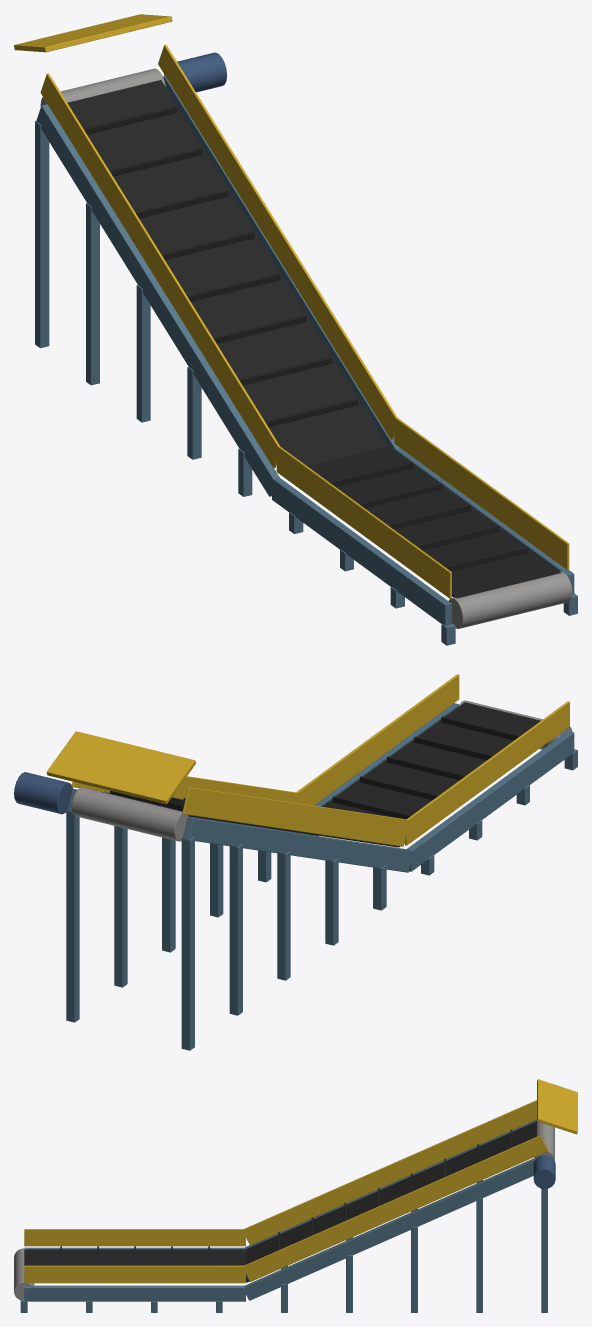
Rendered from bark_belt.glb.
3 views of the same model, one above another, from view 1: azimuth 30°, elevation 25°; view 2: azimuth 150°, elevation 25°; view 3: azimuth 270°, elevation 25° (orthographic). The views are drawn at different scales.
Parts seen in each view (by area): view 1: BB_BeltFrame; view 2: BB_BeltFrame; view 3: BB_BeltFrame.
Part boxes in pixels (left/top/right/bottom): BB_BeltFrame: left=14, top=14, right=577, bottom=645; BB_BeltFrame: left=14, top=674, right=577, bottom=1050; BB_BeltFrame: left=14, top=1079, right=577, bottom=1312.
Bounding box in the file's own units: 1.57 × 2.5 × 6.61.
